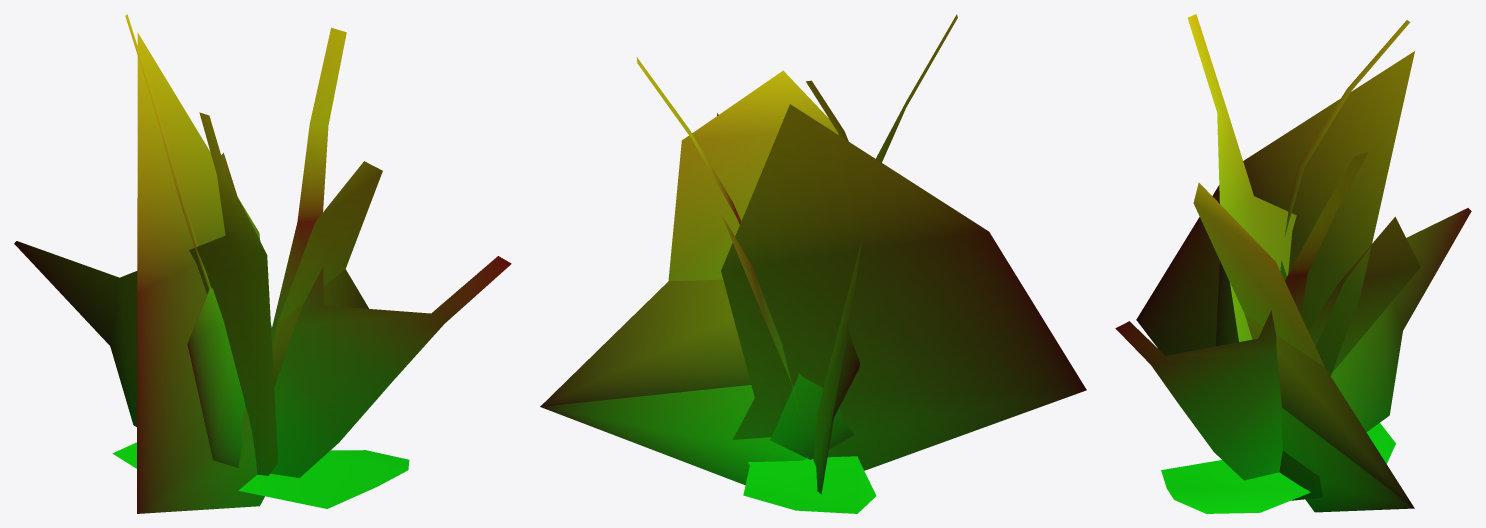
File: Dead Finish_LOD1_Var5_ucokaamia.fbx
3 views of the same model, side by side, from view 1: azimuth 30°, elevation 25°; view 2: azimuth 150°, elevation 25°; view 3: azimuth 270°, elevation 25° (orthographic). The views are drawn at different scales.
Parts seen in each view (by area): view 1: _s20i_Var5_LOD1; view 2: _s20i_Var5_LOD1; view 3: _s20i_Var5_LOD1.
Part boxes in pixels (x1,y1,x2,y2): _s20i_Var5_LOD1: [14, 14, 511, 513]; _s20i_Var5_LOD1: [540, 14, 1086, 513]; _s20i_Var5_LOD1: [1115, 14, 1471, 513].
Size of the model in its own units: 25.76 by 29.48 by 21.16.
